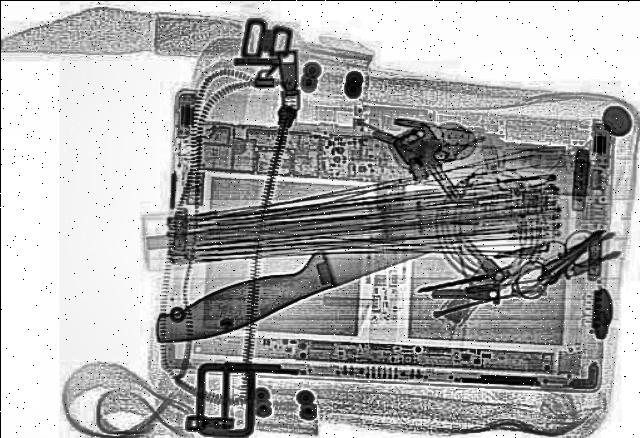Knife: (139, 172, 543, 352)
